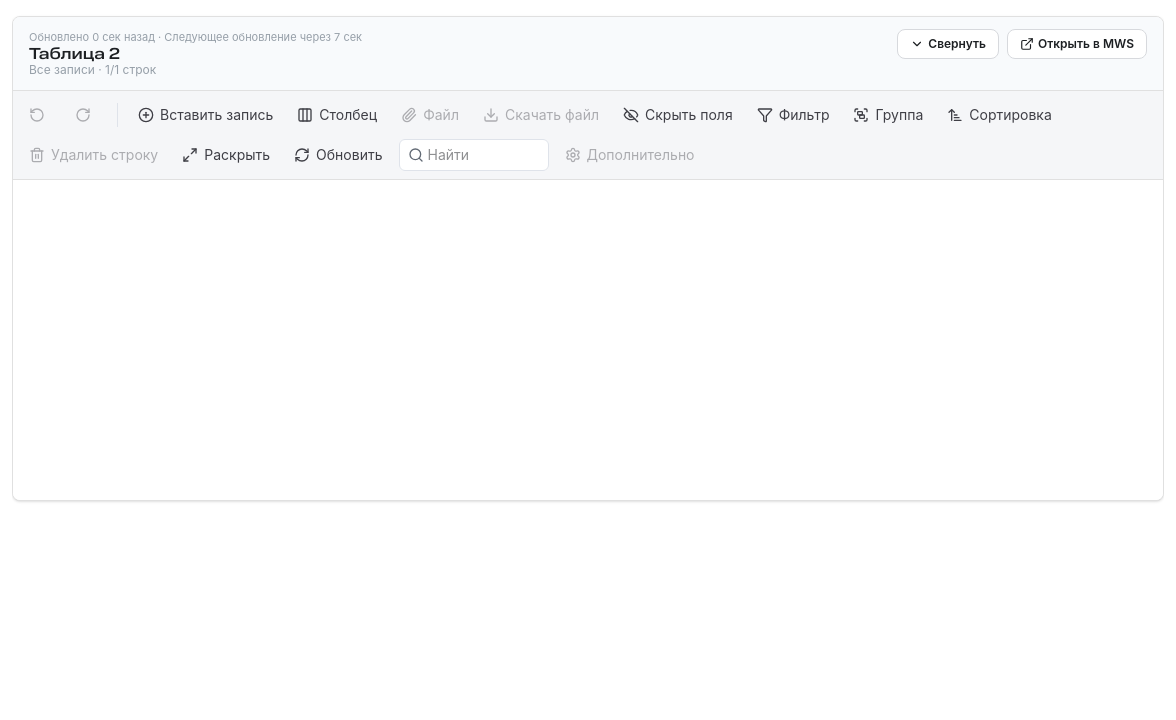
it: MwsTableEmbedComponent › adds a row optimistically from the plus area below the last row
This screenshot has width=1176, height=720.
Expected: the text "Все записи · 1/1 строк" is shown, left=29, top=62, right=156, bottom=76
Press the mouse on the drawing with test id "mws_canvas_grid": (588, 340) left=13, top=180, right=1163, bottom=500
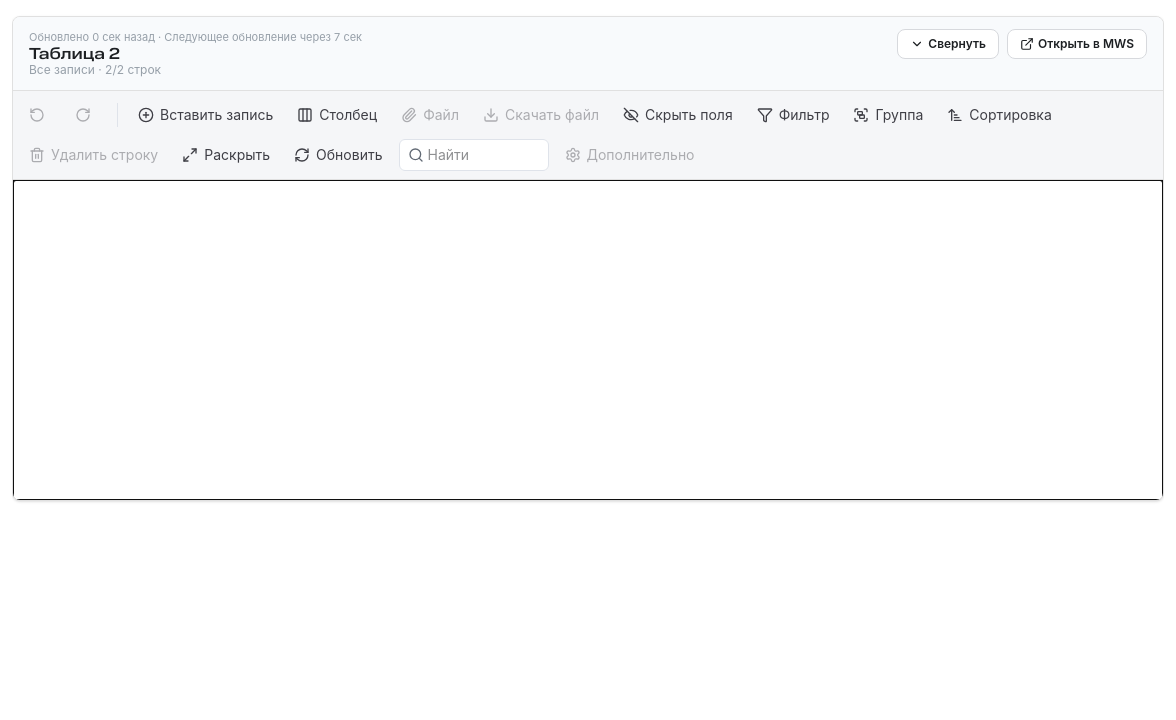
Expected: the text "Все записи · 2/2 строк" is shown, left=29, top=62, right=161, bottom=76
